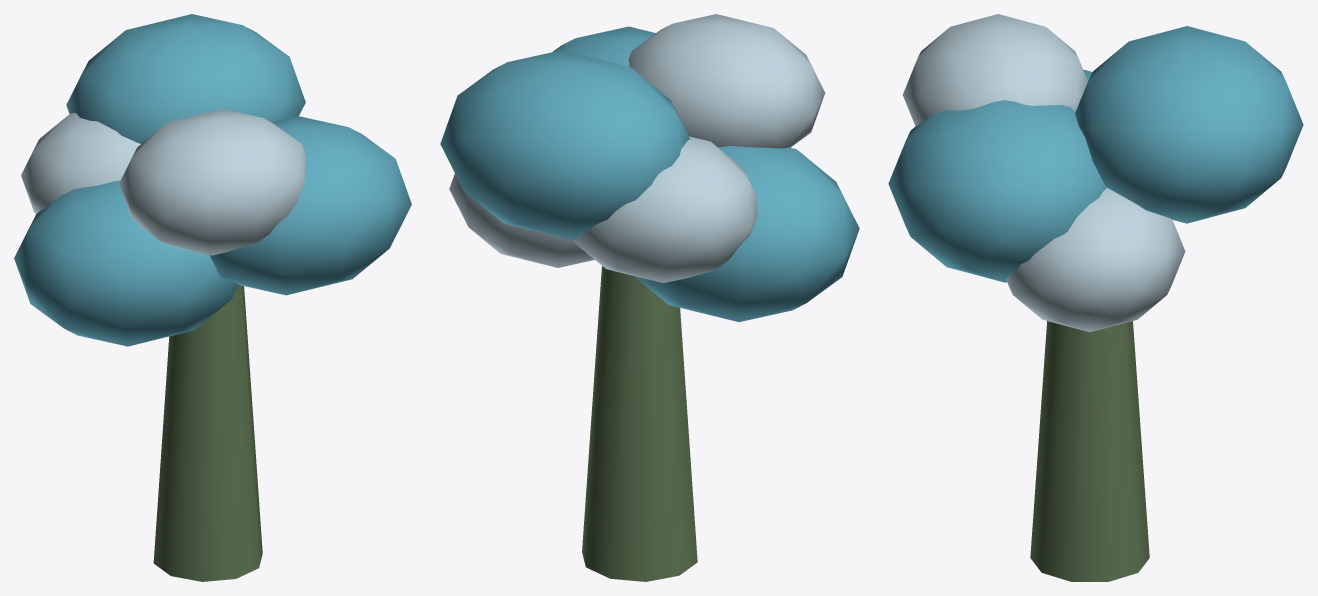
File: boundary-cluster.glb
The picture shows the model from 3 angles, left to right: view 1: azimuth 30°, elevation 25°; view 2: azimuth 150°, elevation 25°; view 3: azimuth 270°, elevation 25°; orthographic projection. The views are drawn at different scales.
Visible parts, largest first — view 1: trunk, crown_3, crown_2, crown_5, crown_1, crown_4; view 2: crown_5, trunk, crown_3, crown_2, crown_4, crown_0, crown_1; view 3: crown_5, crown_1, trunk, crown_0, crown_2.
Boxes of the visible parts, <box> form: trunk: <box>153,285,262,581</box>; crown_3: <box>14,180,238,346</box>; crown_2: <box>119,109,306,255</box>; crown_5: <box>66,14,305,143</box>; crown_1: <box>210,116,411,295</box>; crown_4: <box>21,113,140,213</box>; crown_5: <box>440,50,689,240</box>; trunk: <box>582,266,697,581</box>; crown_3: <box>634,146,859,321</box>; crown_2: <box>628,14,824,148</box>; crown_4: <box>573,136,757,282</box>; crown_0: <box>449,173,594,267</box>; crown_1: <box>552,26,655,66</box>; crown_5: <box>1075,26,1303,223</box>; crown_1: <box>888,100,1106,282</box>; trunk: <box>1030,321,1149,581</box>; crown_0: <box>1006,188,1185,332</box>; crown_2: <box>903,14,1087,126</box>.
Size of what is drawn, in the model's own units: 4.59 by 6.03 by 4.31.
